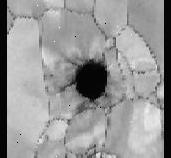good_void: (60, 58, 109, 101)
